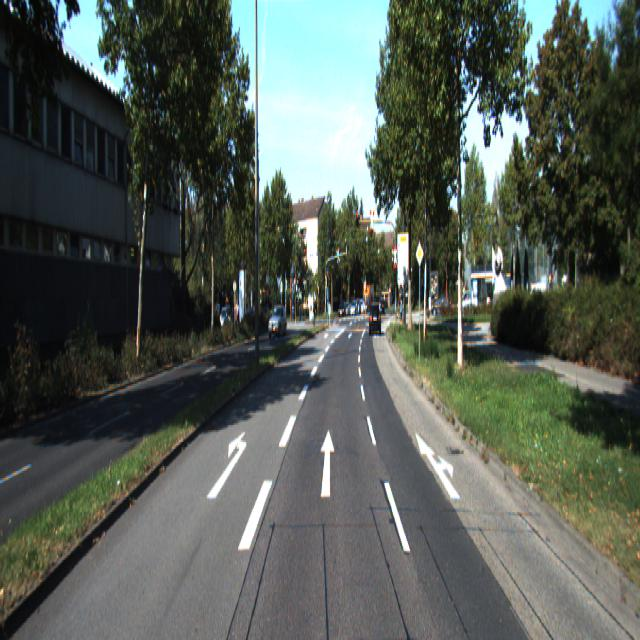Car: (268, 303, 287, 337), (369, 300, 381, 334)
